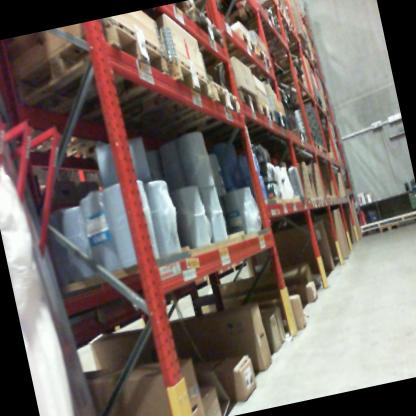pallet: (6, 11, 179, 142), (68, 45, 215, 157), (120, 78, 246, 152), (165, 3, 234, 65), (132, 0, 200, 41), (224, 0, 291, 39), (206, 25, 258, 67), (258, 22, 305, 64), (237, 85, 264, 122), (240, 51, 274, 76), (269, 101, 292, 135), (374, 217, 403, 238), (286, 120, 311, 144), (258, 95, 275, 123), (317, 135, 331, 159), (311, 135, 324, 156)
